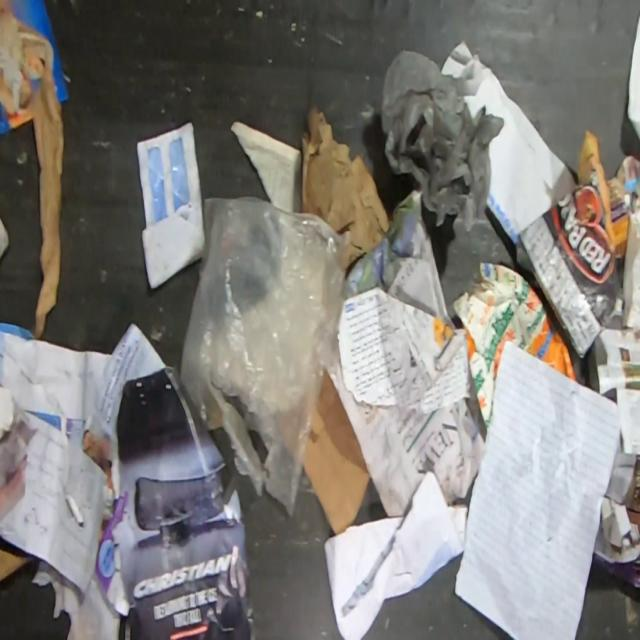cardboard: (450, 261, 579, 437), (300, 106, 391, 272), (304, 367, 370, 534)
soft_plastic: (179, 197, 351, 519), (383, 51, 502, 234)
